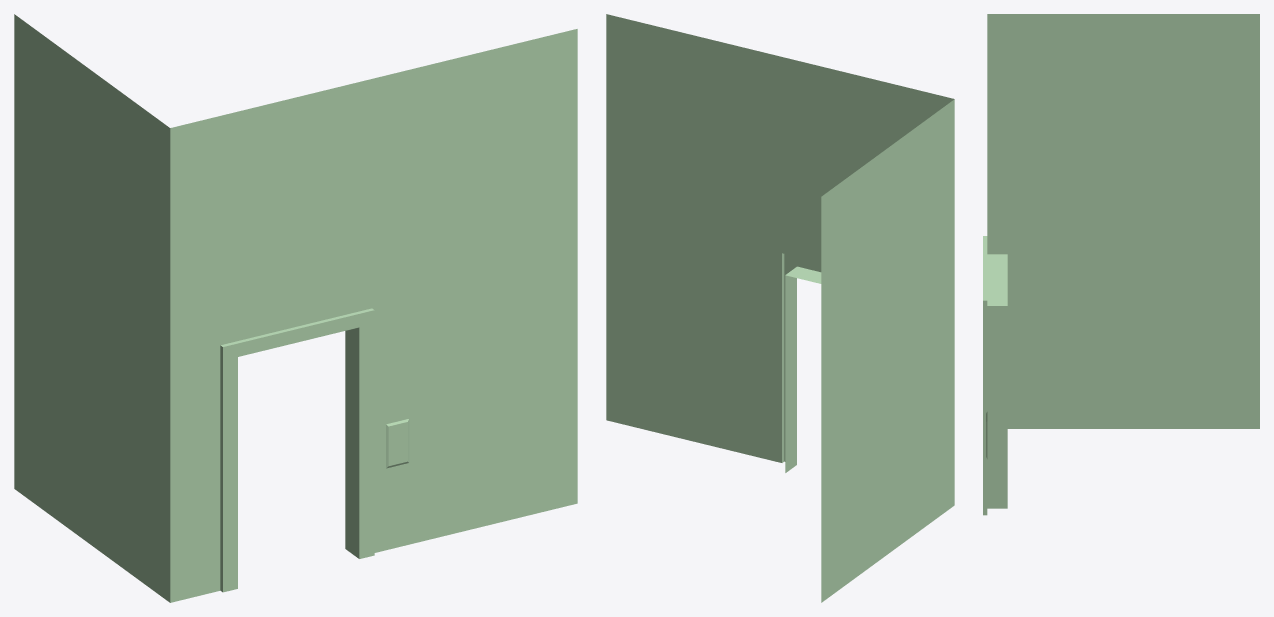
Rendered from mesh_Infirmany_lift_outer.fbx.
3 renders of one model, left to right at view 1: azimuth 30°, elevation 25°; view 2: azimuth 150°, elevation 25°; view 3: azimuth 270°, elevation 25°, orthographic. The views are drawn at different scales.
Visible parts, largest first — view 1: Infirmany_lift_outer; view 2: Infirmany_lift_outer; view 3: Infirmany_lift_outer.
Boxes of the visible parts, x1,y1,x2,y2 form: Infirmany_lift_outer: (14,14,577,602); Infirmany_lift_outer: (606,14,954,602); Infirmany_lift_outer: (983,14,1259,515).
Size of the model in its own units: 485 by 540 by 326.
